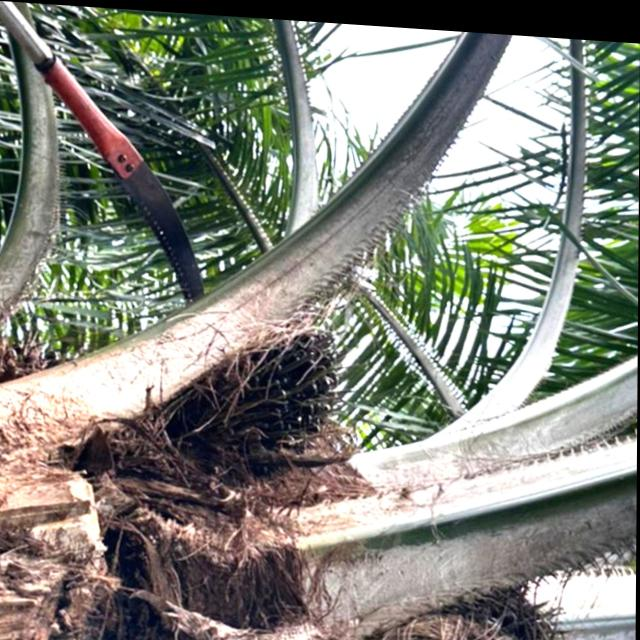unripe: (162, 302, 353, 483)
